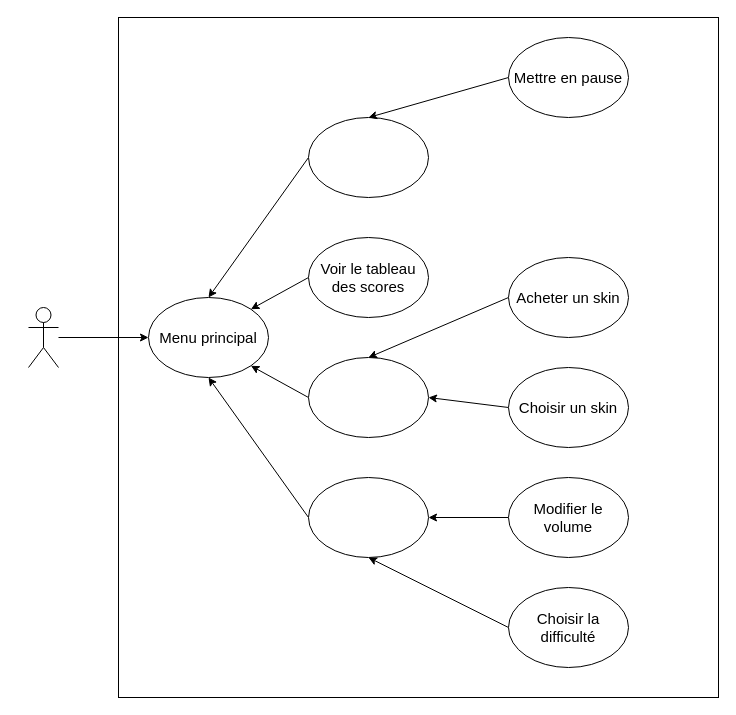
The diagram is 736 pixels wide and 715 high, and some of its shapes have lost their labels. The centre of each missing label's shape, as x and y in pixels:
Accéder aux réglages: point 368,517
Choisir son personnage: point 368,397
Démarrer une partie: point 368,157
Utilisateur: point 43,337
